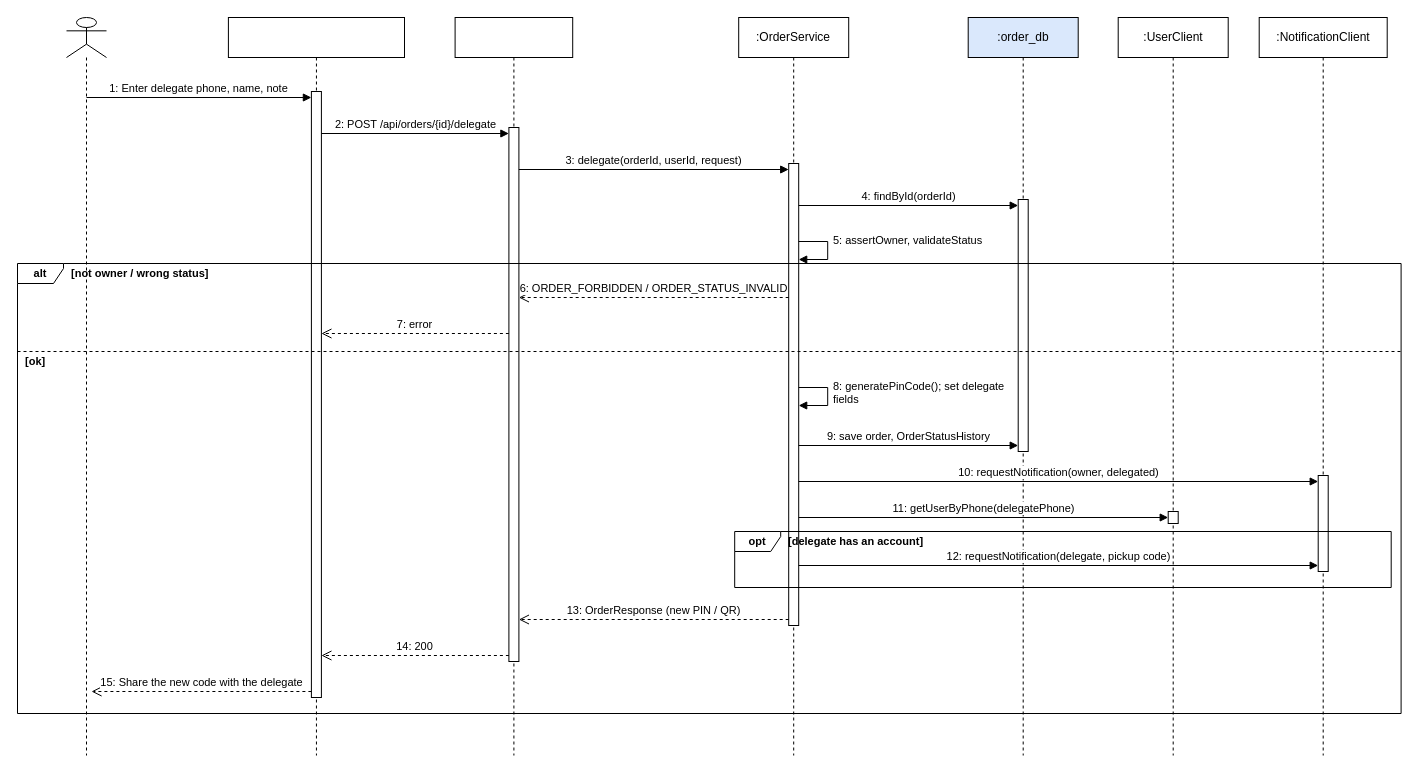
The diagram is 1420 pixels wide and 773 high, and some of its shapes have lost their labels. Here are the shapes that lost their labels. From the top down, the box of each, then its label:
(66, 16, 106, 756): Customer
(227, 16, 404, 756): :OrderDetailScreen (Mobile)
(454, 16, 573, 756): :OrderController
